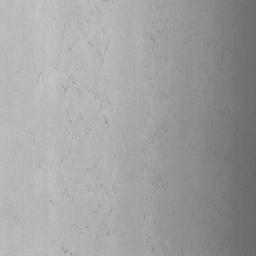Silk spot: (62, 243, 77, 256)
